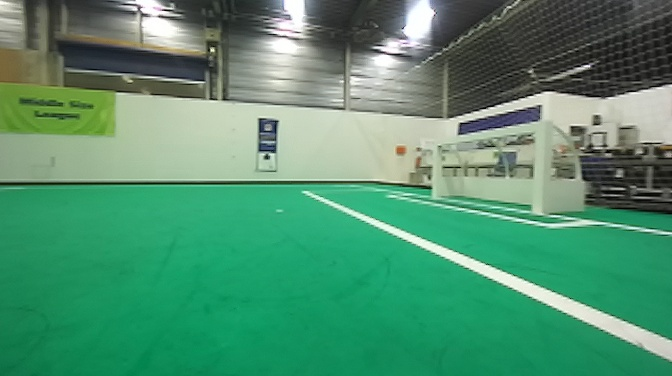goalpost: (527, 120, 550, 215), (426, 137, 441, 202)
